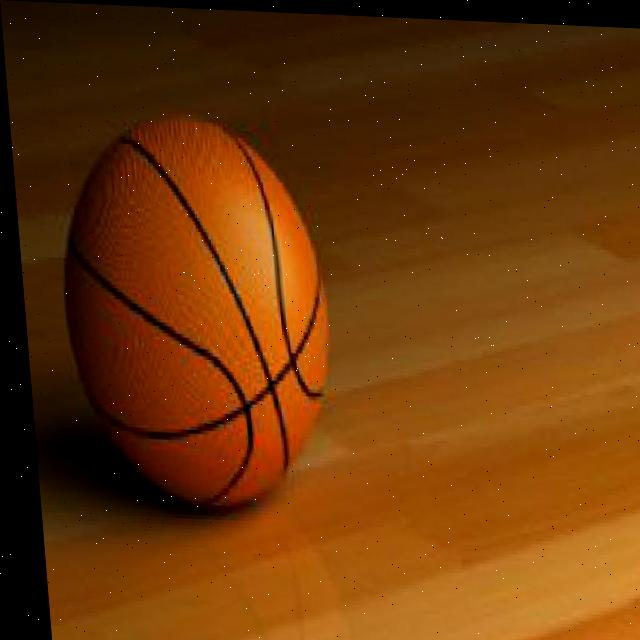Basketball: (49, 118, 339, 508)
